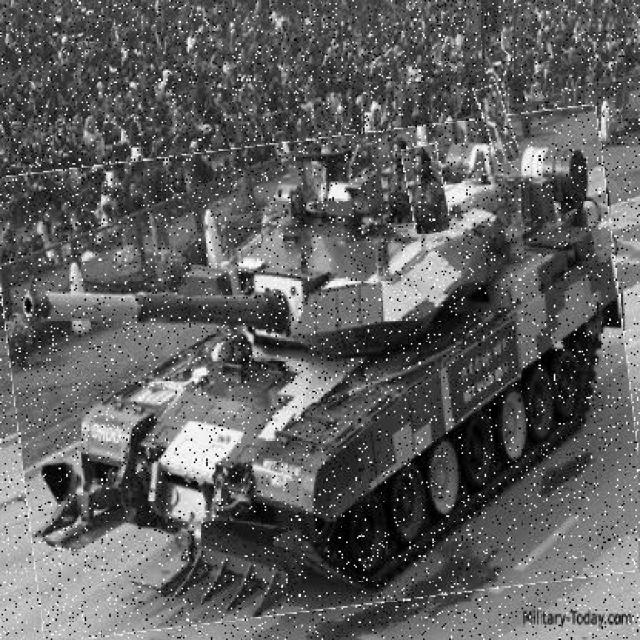Person: (406, 146, 447, 237), (481, 86, 516, 166), (331, 129, 357, 201)
Tank: (2, 124, 640, 627)
